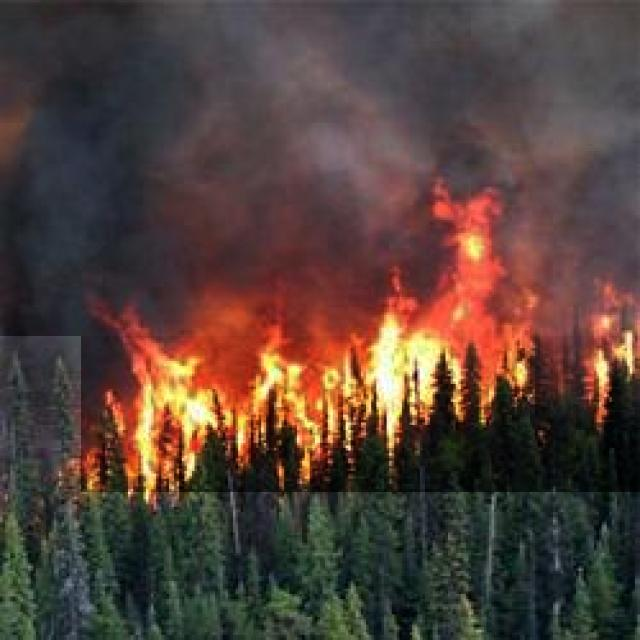Fire: (81, 192, 640, 492)
Smoke: (0, 0, 640, 336)
